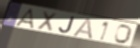1: (99, 21, 111, 41)
A: (70, 17, 93, 41), (14, 8, 36, 31)
J: (58, 16, 76, 34)
O: (113, 24, 134, 45)
X: (35, 10, 59, 33)
